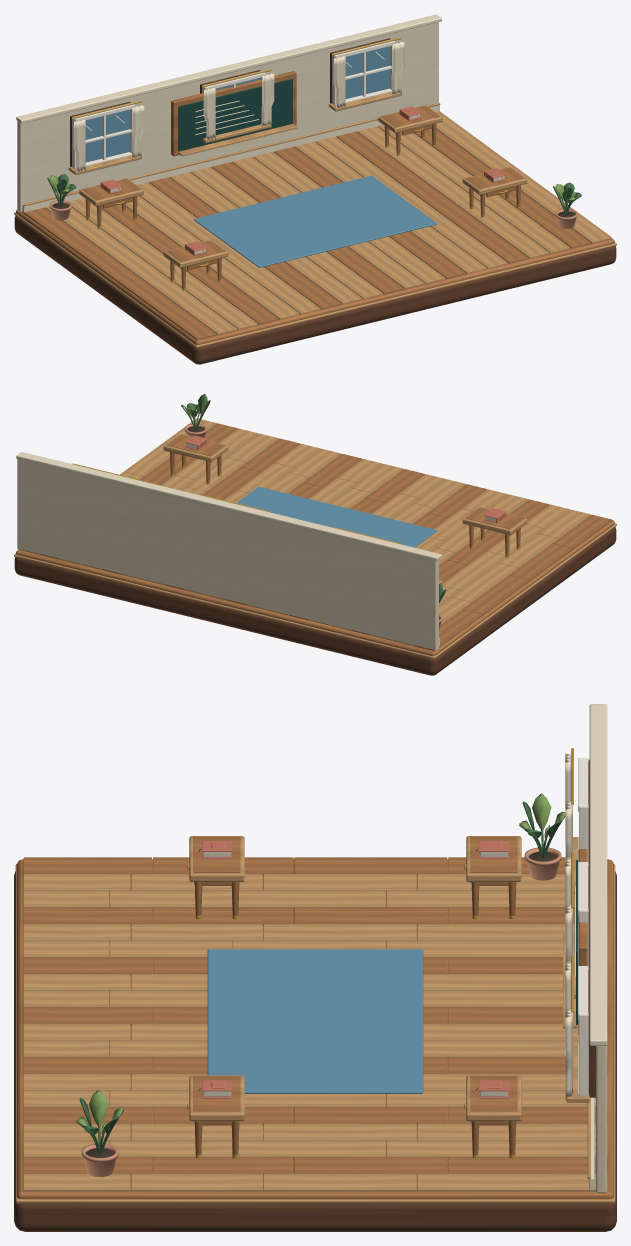
The model's file is school.glb.
3 views of the same model, one above another, from view 1: azimuth 30°, elevation 25°; view 2: azimuth 150°, elevation 25°; view 3: azimuth 270°, elevation 25° (orthographic). The views are drawn at different scales.
Visible parts, largest first — view 1: Crafted_wood_light, Crafted_wood, Crafted_plaster, Crafted_blue, Crafted_edge, Crafted_cream, Crafted_dark, Crafted_white, Crafted_brass, Crafted_coral, Crafted_leaf, Crafted_ceramic; view 2: Crafted_plaster, Crafted_wood_light, Crafted_wood, Crafted_edge, Crafted_blue, Crafted_cream, Crafted_brass, Crafted_leaf, Crafted_coral; view 3: Crafted_wood_light, Crafted_wood, Crafted_blue, Crafted_edge, Crafted_cream, Crafted_white, Crafted_coral, Crafted_plaster, Crafted_ceramic, Crafted_lightleaf, Crafted_leaf, Crafted_brass.
Part boxes in pixels (box(x1,y1,x2,y2)): Crafted_wood_light: box(14, 92, 616, 347); Crafted_wood: box(16, 71, 614, 344); Crafted_plaster: box(17, 22, 438, 212); Crafted_blue: box(85, 46, 437, 267); Crafted_edge: box(14, 38, 616, 364); Crafted_cream: box(16, 14, 441, 212); Crafted_dark: box(178, 78, 292, 151); Crafted_white: box(72, 39, 395, 168); Crafted_brass: box(72, 37, 520, 290); Crafted_coral: box(100, 106, 505, 255); Crafted_leaf: box(47, 174, 581, 215); Crafted_ceramic: box(49, 200, 577, 228); Crafted_plaster: box(17, 459, 438, 651); Crafted_wood_light: box(14, 418, 616, 659); Crafted_wood: box(16, 423, 614, 655); Crafted_edge: box(14, 527, 616, 675); Crafted_blue: box(236, 486, 437, 547); Crafted_cream: box(16, 452, 441, 646); Crafted_brass: box(72, 439, 520, 557); Crafted_leaf: box(181, 394, 445, 603); Crafted_coral: box(185, 435, 505, 522); Crafted_wood_light: box(15, 836, 615, 1203); Crafted_wood: box(17, 836, 613, 1199); Crafted_blue: box(207, 949, 423, 1093); Crafted_edge: box(14, 759, 616, 1231); Crafted_cream: box(565, 704, 607, 1190); Crafted_white: box(578, 758, 588, 1095); Crafted_coral: box(198, 841, 508, 1098); Crafted_plaster: box(596, 1045, 606, 1192); Crafted_ceramic: box(81, 847, 561, 1176); Crafted_lightleaf: box(76, 793, 565, 1135); Crafted_leaf: box(76, 794, 565, 1154); Crafted_brass: box(187, 748, 573, 1158).
Bounding box in the file's own units: 13 × 3.49 × 9.8.
16 materials, 5 textured.
